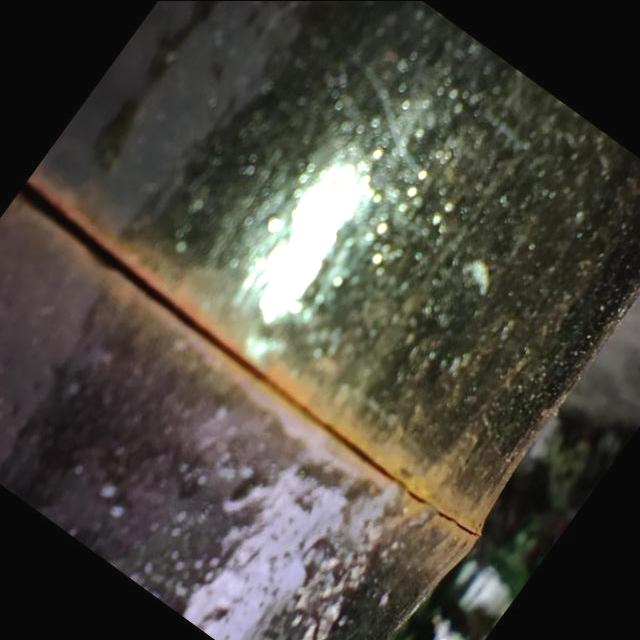defect: (15, 174, 484, 537)
